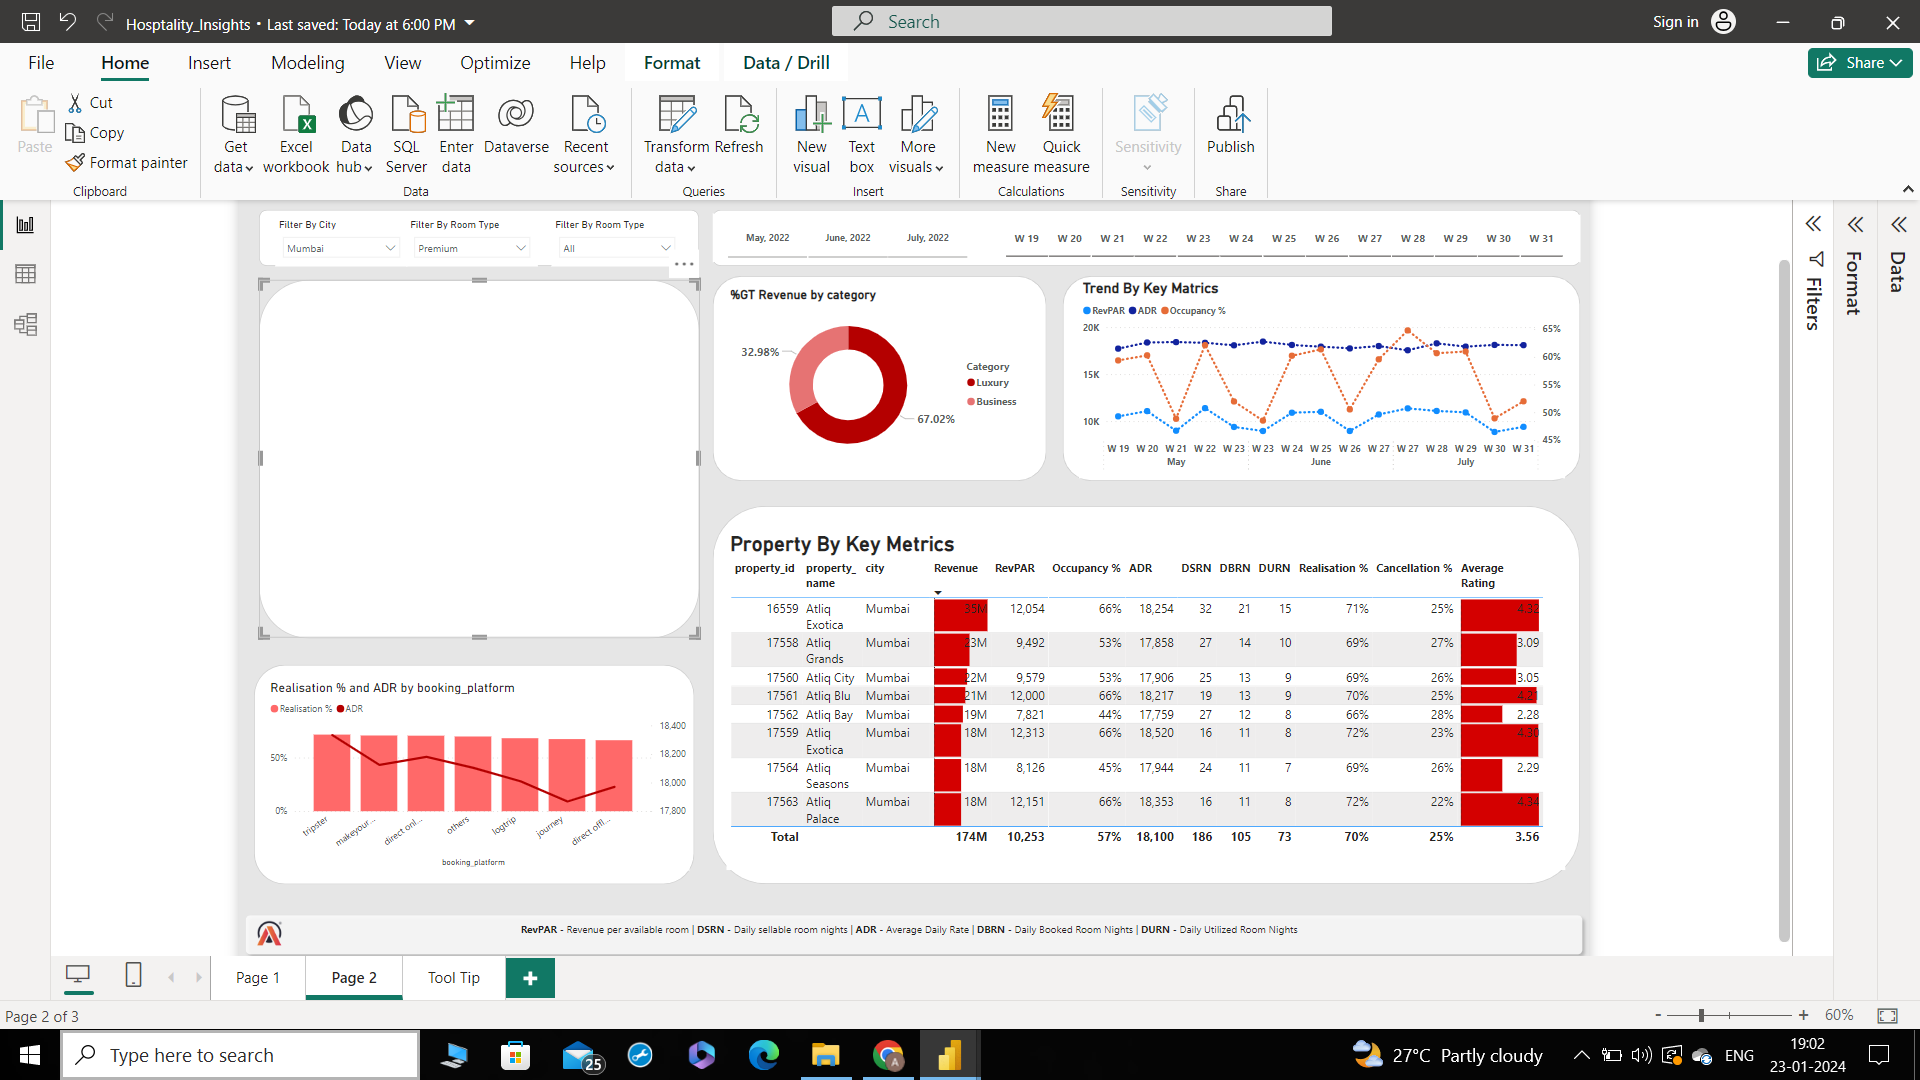

Layout of this report page (visuals, bound fields, positions):
{"tool":"powerbi","page":{"name":"Page 2","canvas":[1800,1100],"ordinal":1},"visuals":[{"type":"shape","box":[0,1016,1800,70],"z":0},{"type":"shape","box":[20,691.4,587.1,292.9],"z":1000},{"type":"shape","box":[632,480,1156,504],"z":2000},{"type":"shape","box":[1098.3,173.3,690,273.3],"z":3000},{"type":"shape","box":[631.7,173.3,445,273.3],"z":4000},{"type":"shape","box":[631.7,85,1156.7,75],"z":5000},{"type":"shape","box":[27.1,178.6,587.1,478.6],"z":6000},{"type":"shape","box":[26.7,85,586.7,75],"z":7000},{"type":"tableEx","title":"Property By Key Metrics","fields":{"Values":["dim_hotels.property_id","dim_hotels.property_name","dim_hotels.city","key_measures (2).Revenue","key_measures (2).RevPAR","key_measures (2).Occupancy %","key_measures (2).ADR","key_measures (2).DSRN","key_measures (2).DBRN","key_measures (2).DURN","key_measures (2).Realisation %","key_measures (2).Cancellation %"]},"box":[650,515.7,1118.6,450],"z":8000},{"type":"slicer","title":"Filter By City","fields":{"Values":["dim_hotels.city"]},"box":[48,96,176,64],"z":9000},{"type":"slicer","title":"Filter By Room Type","fields":{"Values":["dim_rooms.room_class"]},"box":[417,96,175,64],"z":10000},{"type":"slicer","fields":{"Values":["dim_date.mmm yy"]},"box":[631.7,90,358.3,65],"z":11000},{"type":"slicer","fields":{"Values":["dim_date.week no"]},"box":[996.7,91.7,791.7,63.3],"z":12000},{"type":"tableEx","fields":{"Values":["key_measures (2).\"Revenue WoW change %"]},"box":[110.8,281.5,88.5,57.7],"z":13000},{"type":"donutChart","fields":{"Category":["dim_hotels.category"],"Y":["key_measures (2).Revenue"]},"box":[650,188.3,405,241.7],"z":14000},{"type":"lineStackedColumnComboChart","fields":{"Category":["fact_bookings.booking_platform"],"Y":["key_measures (2).Realisation %"],"Y2":["key_measures (2).ADR"]},"box":[37.1,711.4,564.3,254.3],"z":15000},{"type":"lineChart","title":"Trend By Key Matrics","fields":{"Category":["dim_date.mmm yy.Variation.Date Hierarchy.Month","dim_date.week no"],"Y2":["key_measures (2).Occupancy %"],"Y":["key_measures (2).RevPAR","key_measures (2).ADR"]},"box":[1120,178.3,648.3,265],"z":16000},{"type":"tableEx","fields":{"Values":["dim_date.day_type","key_measures (2).RevPAR","key_measures (2).Occupancy %","key_measures (2).ADR","key_measures (2).Realisation %"]},"box":[105,500,455,126.7],"z":17000},{"type":"slicer","title":"Filter By Room Type","fields":{"Values":["dim_rooms.room_class"]},"box":[224,96,175,64],"z":18000},{"type":"image","box":[0,1028,81.3,42.7],"z":20000},{"type":"textbox","box":[345,1029.6,1093.6,39],"z":21000},{"type":"tableEx","fields":{"Values":["key_measures (2).\"DSRN WoW change %"]},"box":[426.9,281.5,88.5,56.2],"z":22000},{"type":"tableEx","fields":{"Values":["key_measures (2).\"Revpar WoW change %"]},"box":[287.7,281.5,89.2,55.4],"z":23000},{"type":"card","title":"DSRN","fields":{"Values":["key_measures (2).DSRN"]},"box":[384.3,206.8,175,95],"z":24000},{"type":"card","title":"Revpar","fields":{"Values":["key_measures (2).RevPAR"]},"box":[242.7,206.5,175,95],"z":25000},{"type":"card","title":"Revenue","fields":{"Values":["key_measures (2).Revenue"]},"box":[67.7,206.5,175,95],"z":26000},{"type":"tableEx","fields":{"Values":["key_measures (2).\"Occupancy WoW change %"]},"box":[110.8,417.7,88.5,57.7],"z":27000},{"type":"card","title":"Occupancy %","fields":{"Values":["key_measures (2).Occupancy %"]},"box":[67.7,347.5,175,95],"z":28000},{"type":"tableEx","fields":{"Values":["key_measures (2).\"ADR WoW change %"]},"box":[287.7,417.7,88.5,57.7],"z":29000},{"type":"tableEx","fields":{"Values":["key_measures (2).\"Revenue WoW change %"]},"box":[460,418.5,88.5,57.7],"z":30000},{"type":"card","title":"ADR","fields":{"Values":["key_measures (2).ADR"]},"box":[242.7,348.5,175,95],"z":31000},{"type":"card","title":"Realisation","fields":{"Values":["key_measures (2).Realisation %"]},"box":[417.7,347.5,175,95],"z":31500}]}

Visuals, with their boxes on the page's 1800x1100 design canvas (x1, y1, x2, y2). These are canvas units, not pixel positions in the 1920x1080 screenshot, which may show the page scaled, cropped or inside an application window:
shape: [0,1016,1800,1086]
shape: [20,691,607,984]
shape: [632,480,1788,984]
shape: [1098,173,1788,447]
shape: [632,173,1077,447]
shape: [632,85,1788,160]
shape: [27,179,614,657]
shape: [27,85,613,160]
"Property By Key Metrics" tableEx: [650,516,1769,966]
"Filter By City" slicer: [48,96,224,160]
"Filter By Room Type" slicer: [417,96,592,160]
slicer - dim_date.mmm yy: [632,90,990,155]
slicer - dim_date.week no: [997,92,1788,155]
tableEx - key_measures (2)."Revenue WoW change %: [111,282,199,339]
donutChart - dim_hotels.category x key_measures (2).Revenue: [650,188,1055,430]
lineStackedColumnComboChart - fact_bookings.booking_platform x key_measures (2).Realisation %: [37,711,601,966]
"Trend By Key Matrics" lineChart: [1120,178,1768,443]
tableEx - dim_date.day_type x key_measures (2).RevPAR: [105,500,560,627]
"Filter By Room Type" slicer: [224,96,399,160]
image: [0,1028,81,1071]
textbox: [345,1030,1439,1069]
tableEx - key_measures (2)."DSRN WoW change %: [427,282,515,338]
tableEx - key_measures (2)."Revpar WoW change %: [288,282,377,337]
"DSRN" card: [384,207,559,302]
"Revpar" card: [243,206,418,302]
"Revenue" card: [68,206,243,302]
tableEx - key_measures (2)."Occupancy WoW change %: [111,418,199,475]
"Occupancy %" card: [68,348,243,442]
tableEx - key_measures (2)."ADR WoW change %: [288,418,376,475]
tableEx - key_measures (2)."Revenue WoW change %: [460,418,548,476]
"ADR" card: [243,348,418,444]
"Realisation" card: [418,348,593,442]
